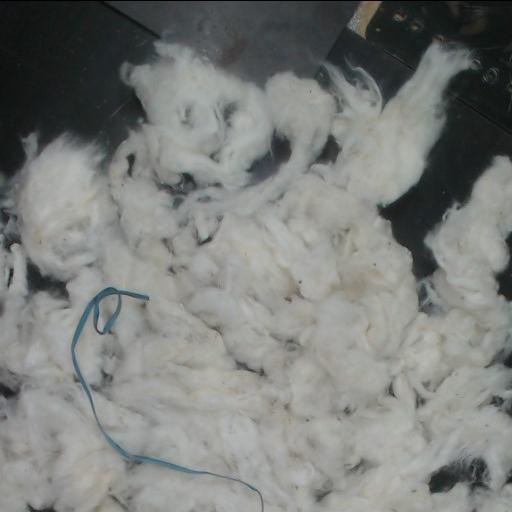conveyor belt: (0, 1, 152, 177), (329, 1, 511, 135)
cotton: (0, 41, 511, 512)
thread: (70, 286, 263, 512)
